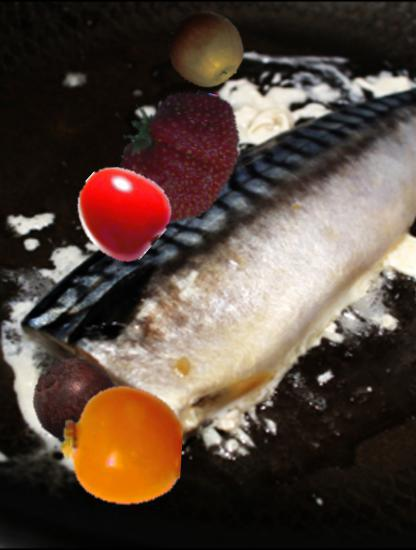Apple: (167, 10, 245, 88)
Mangostan: (29, 353, 132, 456)
Physalis: (59, 383, 182, 506)
Strawberry: (107, 87, 248, 228)
Tomato: (75, 164, 168, 257)
